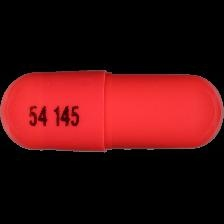17856-0108: (0, 0, 224, 224)
